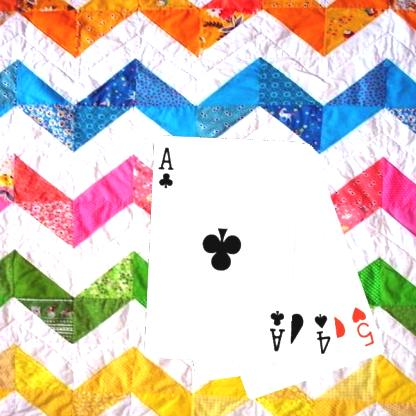4S: (312, 311, 332, 356)
5H: (349, 304, 376, 348)
AC: (155, 145, 176, 190), (267, 308, 287, 353)
